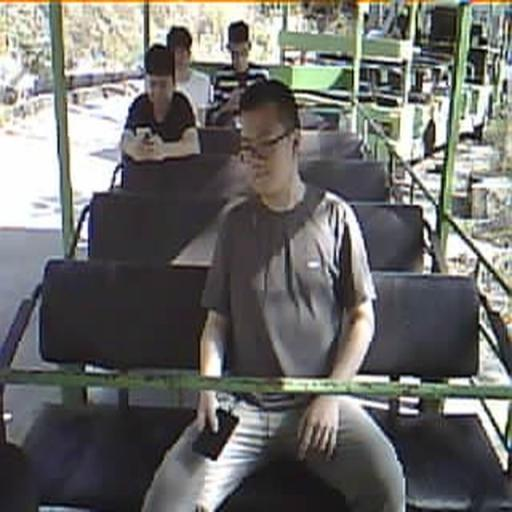persona: (140, 78, 407, 511), (120, 43, 202, 166), (209, 20, 270, 126), (166, 24, 212, 122)
